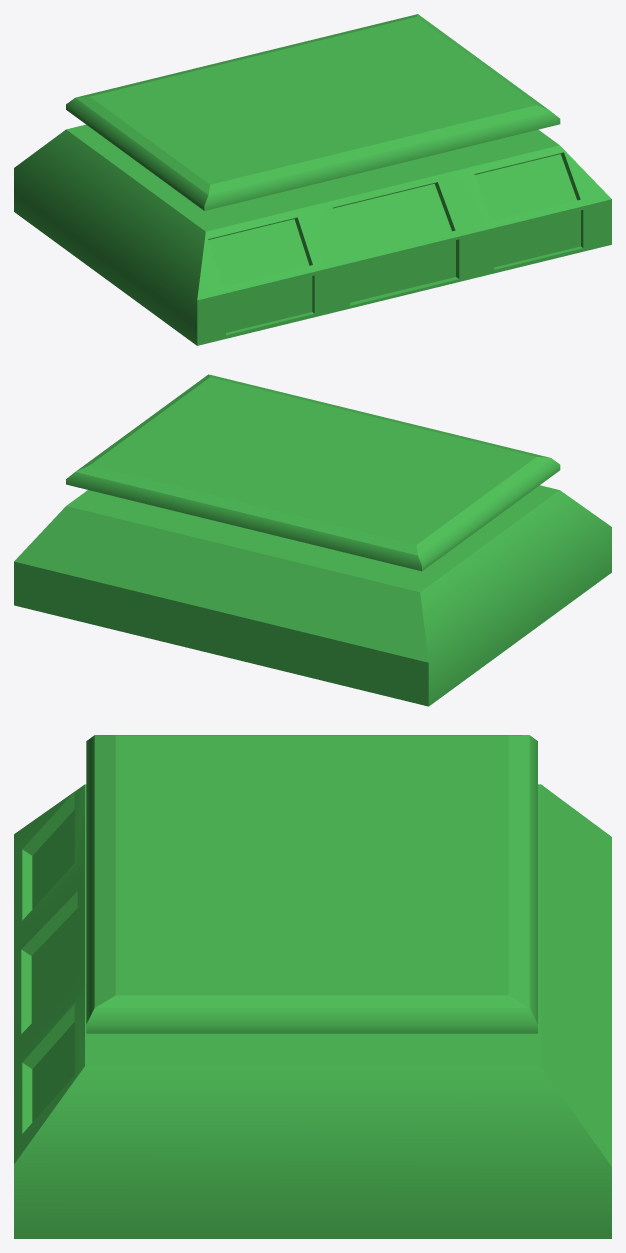
The model's file is waga.fbx.
The picture shows the model from 3 angles, top to bottom: view 1: azimuth 30°, elevation 25°; view 2: azimuth 150°, elevation 25°; view 3: azimuth 270°, elevation 25°; orthographic projection. The views are drawn at different scales.
Parts seen in each view (by area): view 1: Box019, Box020; view 2: Box019, Box020; view 3: Box019, Box020.
Boxes of the visible parts, x1,y1,x2,y2 form: Box019: (14, 124, 611, 345); Box020: (66, 14, 560, 210); Box019: (14, 485, 611, 706); Box020: (66, 374, 560, 571); Box019: (14, 784, 611, 1238); Box020: (86, 735, 537, 1033).
Size of the model in its own units: 43.36 by 12.75 by 33.17.
